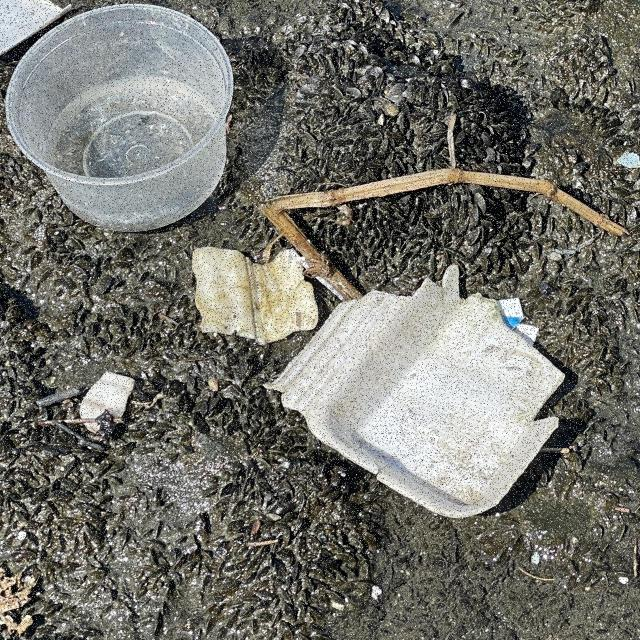plastic_waste: (8, 8, 240, 238)
styrofoam_waste: (272, 263, 566, 521)
